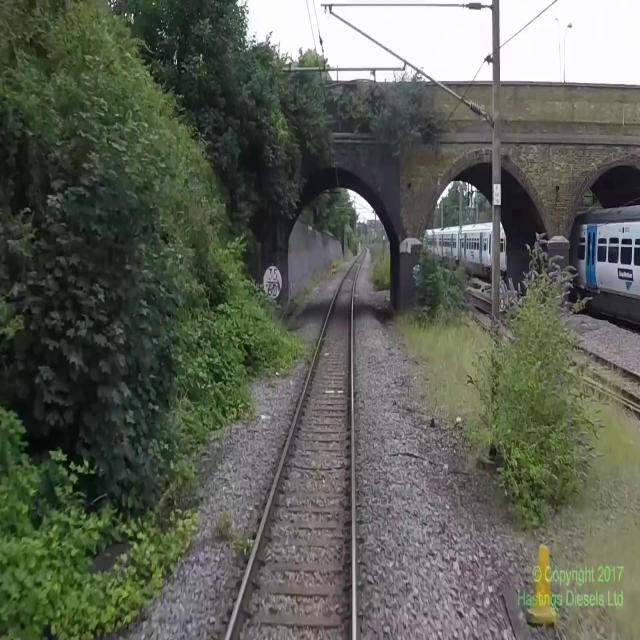rail-track: (229, 248, 365, 639)
